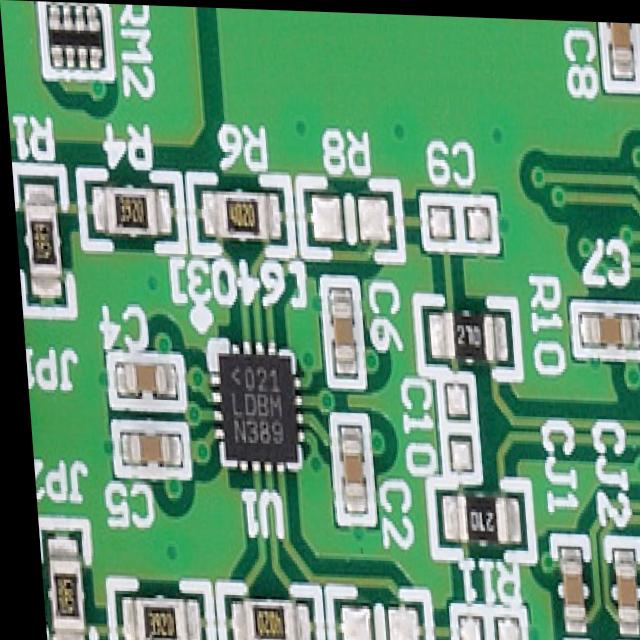IC: (204, 342, 305, 476)
capacitor: (594, 528, 640, 640), (326, 413, 370, 524), (544, 536, 589, 640), (110, 422, 185, 482), (568, 298, 640, 358), (320, 278, 360, 386), (107, 355, 179, 412), (602, 18, 640, 90), (640, 440, 640, 496)
component text: (223, 367, 286, 451), (226, 199, 261, 237), (247, 609, 280, 640), (461, 506, 492, 537), (452, 322, 481, 350)
pads: (294, 180, 405, 260), (319, 581, 430, 640), (417, 189, 503, 253), (432, 379, 476, 485), (442, 606, 526, 640)
resistor: (14, 169, 69, 320), (426, 480, 527, 560), (416, 299, 516, 376), (79, 177, 184, 250), (188, 180, 291, 253), (33, 524, 85, 640), (40, 1, 113, 80), (212, 587, 312, 640), (105, 587, 203, 640)
